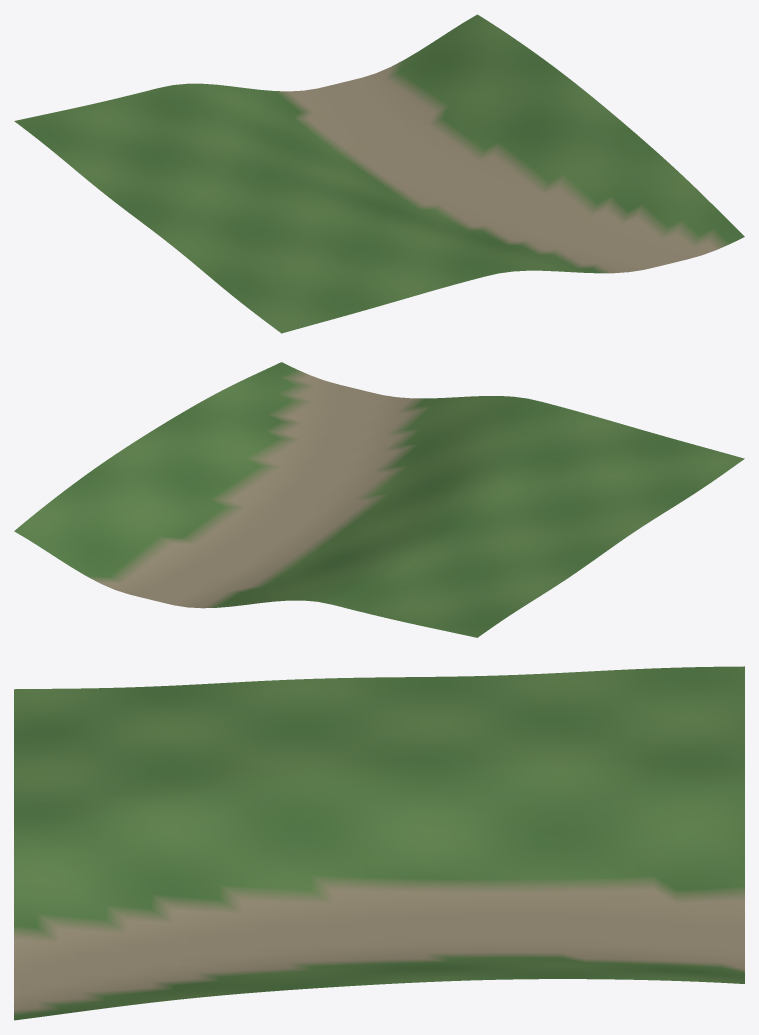
The model's file is chunk_3_4.glb.
The picture shows the model from 3 angles, top to bottom: view 1: azimuth 30°, elevation 25°; view 2: azimuth 150°, elevation 25°; view 3: azimuth 270°, elevation 25°; orthographic projection. The views are drawn at different scales.
Bounding box in the file's own units: 512 × 43.83 × 512.
